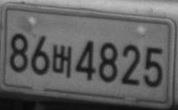2: (121, 43, 140, 86)
4: (74, 40, 96, 80)
5: (143, 46, 164, 88)
6: (30, 35, 50, 75)
8: (9, 32, 29, 73), (98, 41, 118, 82)
버: (52, 44, 71, 77)
